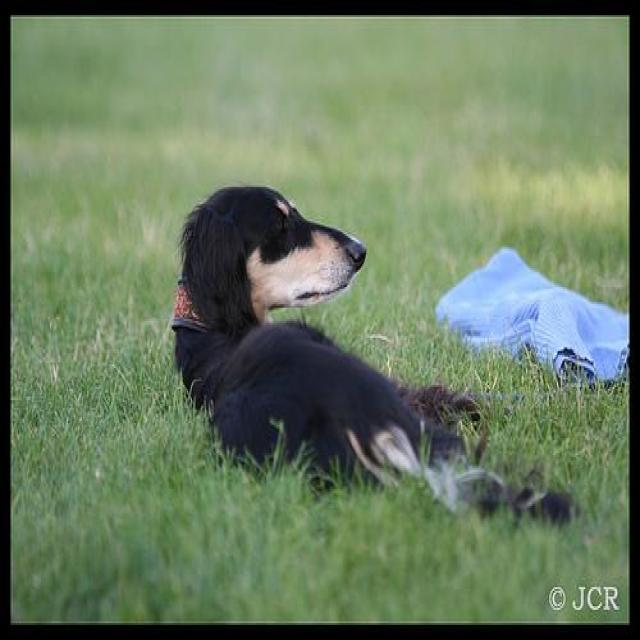saluki: (167, 179, 582, 527)
